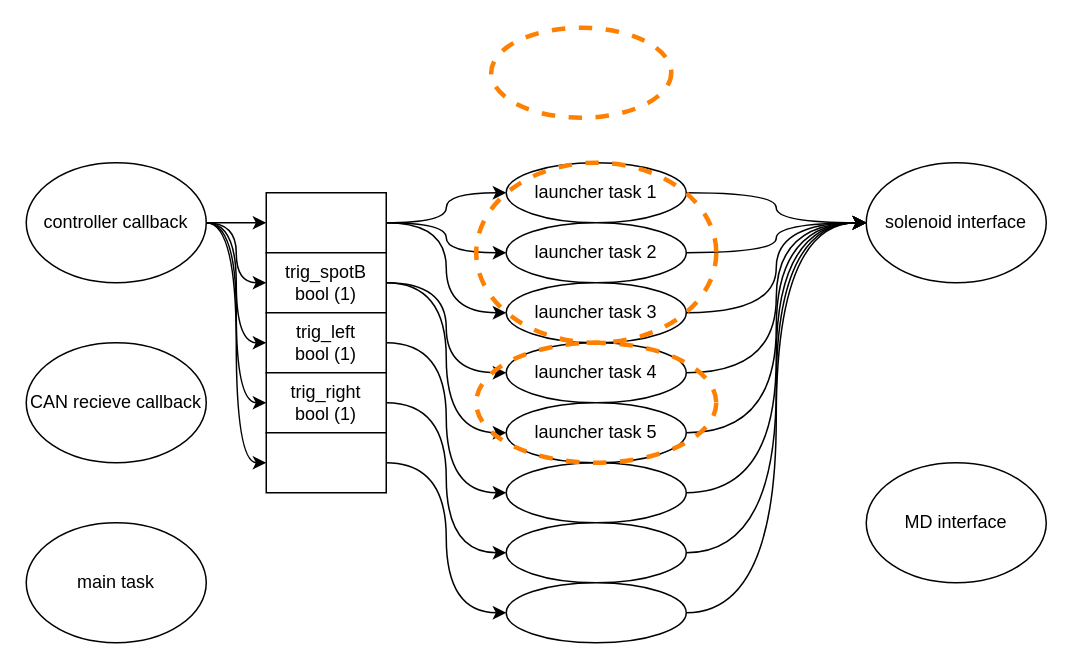
Some shapes in this 1073 by 669 pixel diagram are drawn without their labels. The centre of each missing label's shape, as x and y in pixels:
"current version is merged because no motor" belongs at pixel 580 72.
"launcher task 6" belongs at pixel 595 492.
"launcher task 7" belongs at pixel 595 552.
"launcher task 8" belongs at pixel 595 612.
"trig_baseB bool (1)" belongs at pixel 325 462.
"trig_spotA bool (1)" belongs at pixel 325 222.
